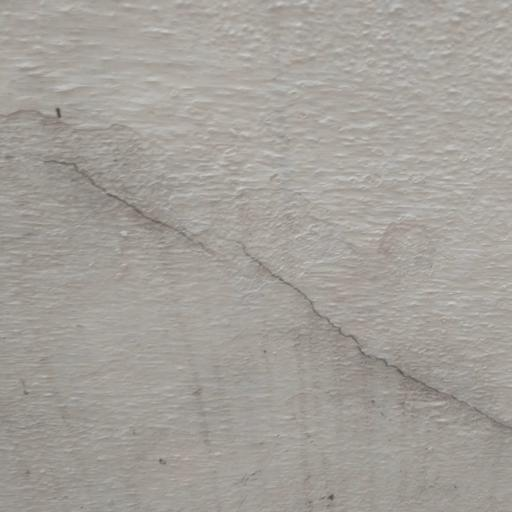minor_crack: (14, 106, 512, 443)
